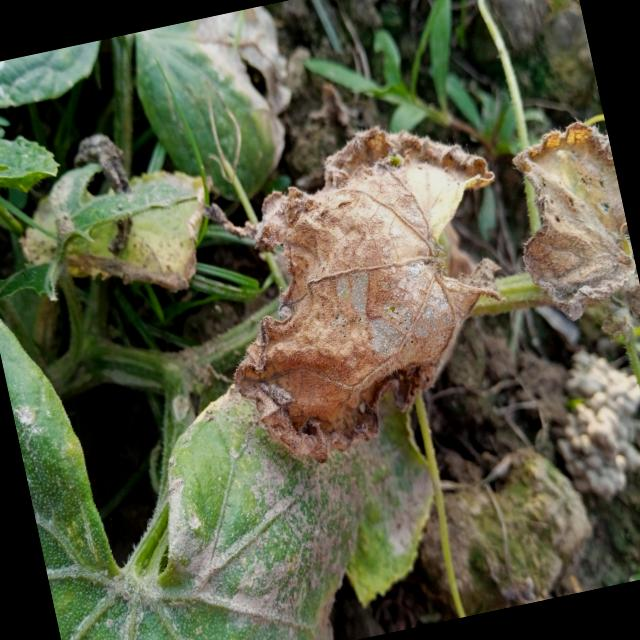cucumber_bacterial: (213, 109, 542, 438), (17, 364, 402, 640), (104, 0, 363, 198), (0, 126, 219, 309), (509, 116, 640, 373)
